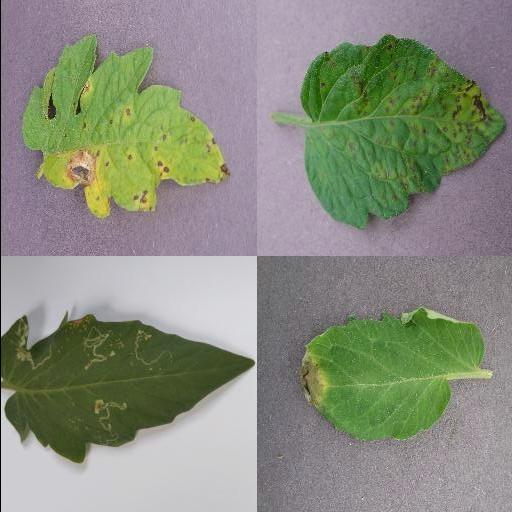Late Blight: (298, 307, 484, 443)
Leaf Miner: (0, 313, 255, 463)
Septoria: (298, 34, 506, 232), (20, 34, 230, 218)
